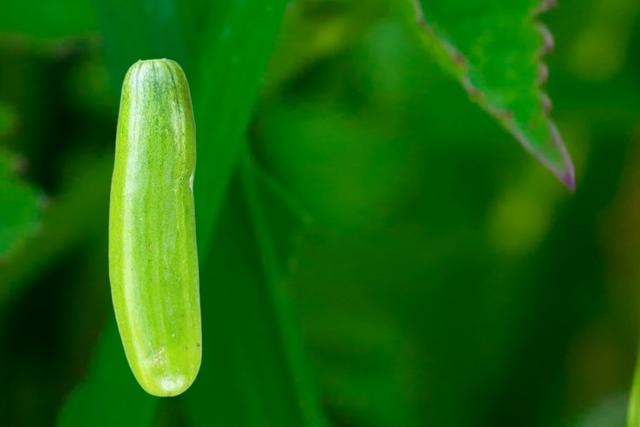cucumber: (108, 57, 201, 396)
